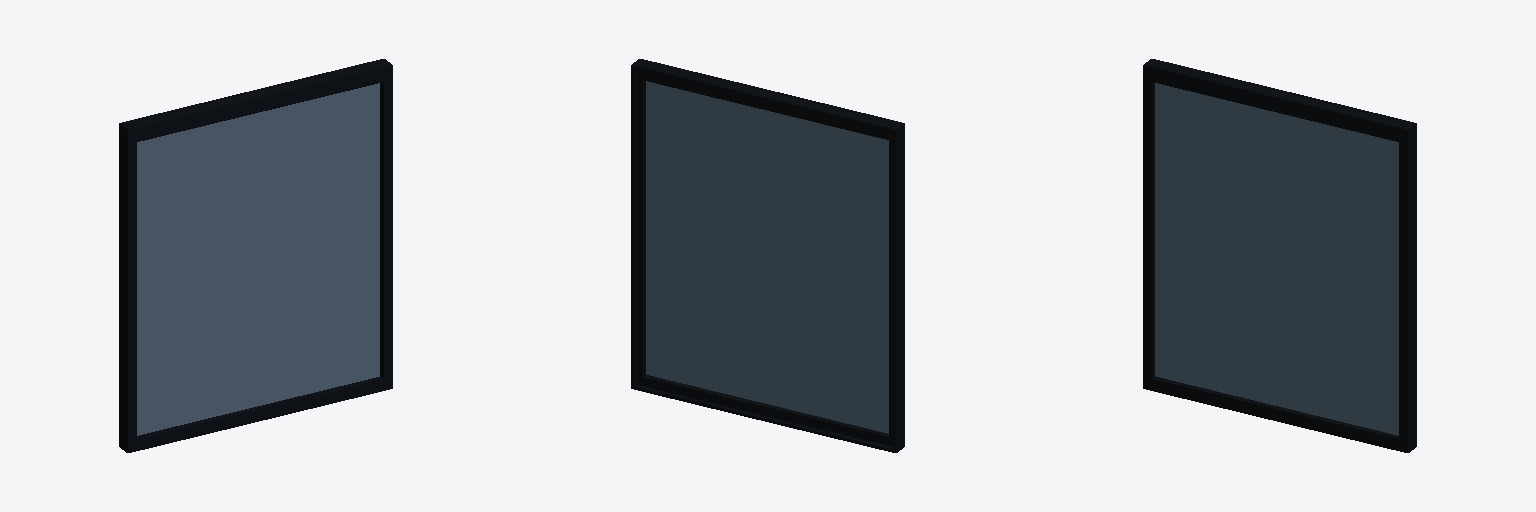
Rendered from chuangh9.obj.
3 renders of one model, left to right at view 1: azimuth 30°, elevation 25°; view 2: azimuth 150°, elevation 25°; view 3: azimuth 330°, elevation 25°, orthographic.
Parts seen in each view (by area): view 1: Rectangle104, Rectangle103, Rectangle105; view 2: Rectangle104, Rectangle103, Rectangle105; view 3: Rectangle104, Rectangle103, Rectangle105.
Part boxes in pixels (x1,y1,x2,y2): Rectangle104: (137, 83, 379, 435); Rectangle103: (130, 69, 389, 449); Rectangle105: (119, 59, 392, 452); Rectangle104: (646, 81, 888, 433); Rectangle103: (636, 69, 893, 446); Rectangle105: (631, 59, 904, 452); Rectangle104: (1155, 83, 1398, 435); Rectangle103: (1146, 69, 1405, 449); Rectangle105: (1143, 59, 1416, 452).
Bounding box in the file's own units: 12 × 14 × 0.7.